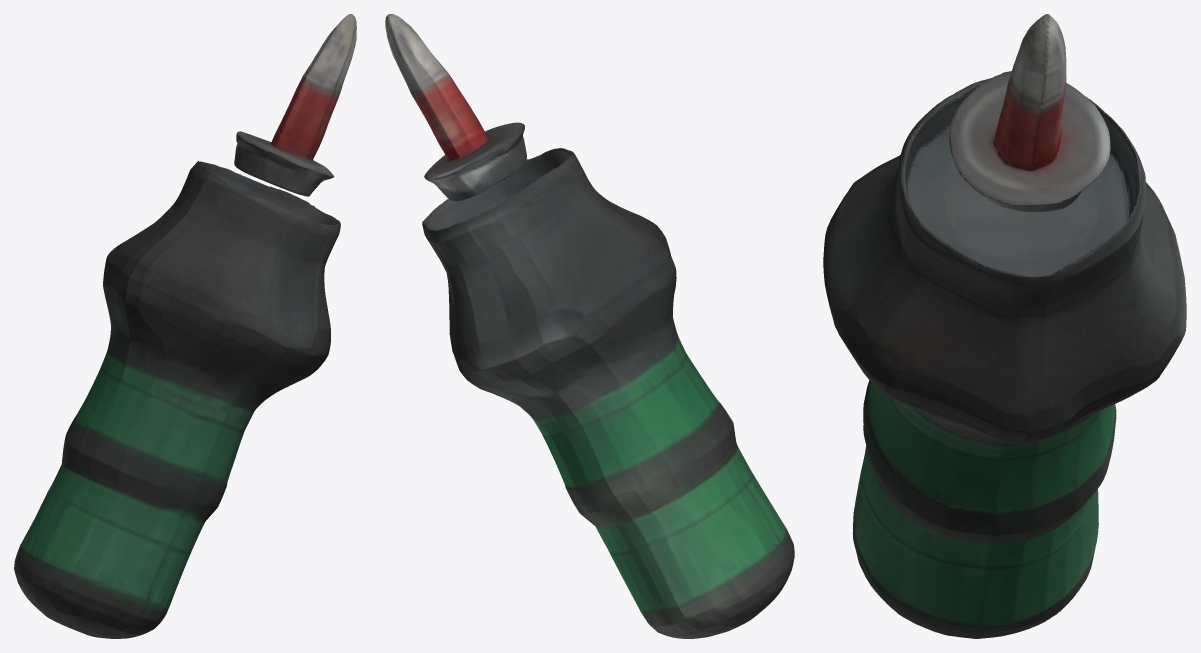
Rendered from object_mesh_scaled.glb.
3 views of the same model, side by side, from view 1: azimuth 30°, elevation 25°; view 2: azimuth 150°, elevation 25°; view 3: azimuth 270°, elevation 25° (orthographic). The views are drawn at different scales.
Parts seen in each view (by area): view 1: world; view 2: world; view 3: world.
Boxes of the visible parts, x1=… form: world: x1=14, y1=14, x2=356, y2=638; world: x1=385, y1=14, x2=794, y2=638; world: x1=823, y1=14, x2=1186, y2=638.
Bounding box in the file's own units: 0.0452 × 0.0654 × 0.0267.
